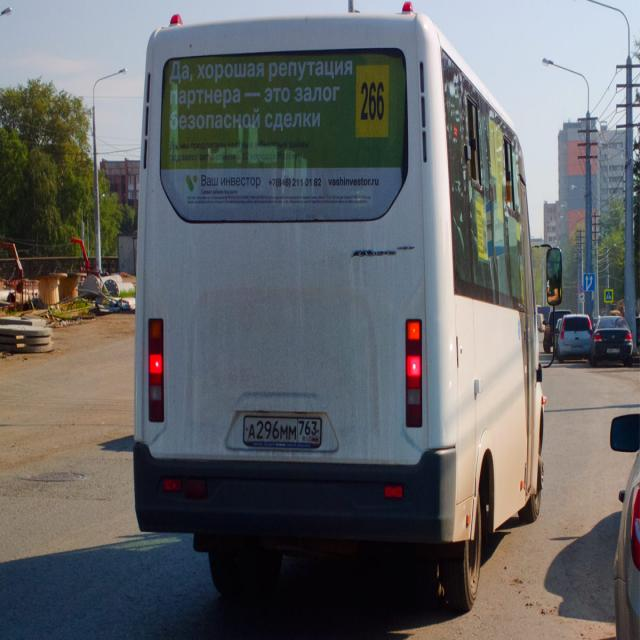number-of-bus: (358, 70, 389, 126)
